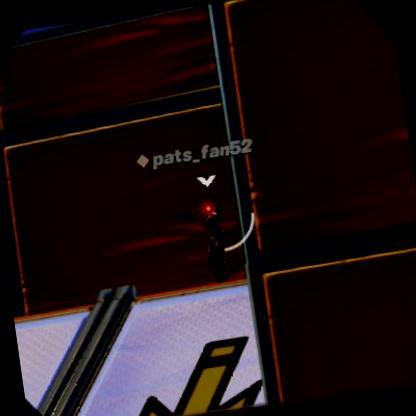person: (192, 196, 230, 270)
